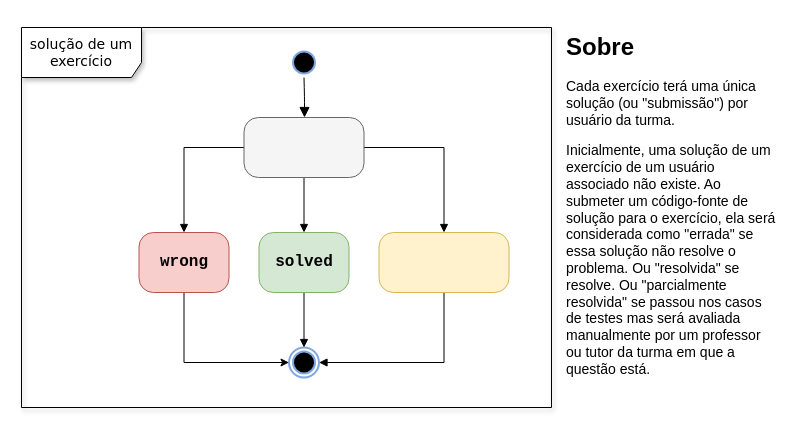
Image size: 799x432. Some labels were removed from this diagram. The shapes that lost their labels are listed below. From the top down, each one's centre as x and y in pixels, then its label:
At point (303, 147): "not submitted".
At point (443, 262): "partially solved".
